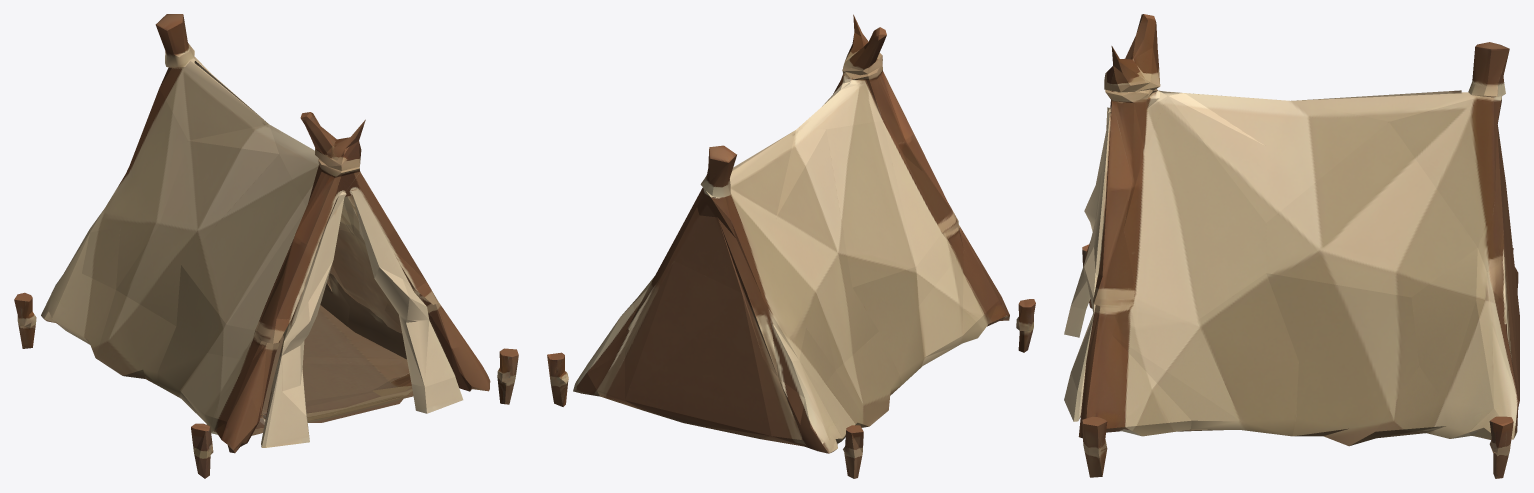
Rendered from camp-tent.glb.
The picture shows the model from 3 angles, left to right: view 1: azimuth 30°, elevation 25°; view 2: azimuth 150°, elevation 25°; view 3: azimuth 270°, elevation 25°; orthographic projection. The views are drawn at different scales.
Parts seen in each view (by area): view 1: output_unwrapped; view 2: output_unwrapped; view 3: output_unwrapped.
Boxes of the visible parts, bbox=[...] form: output_unwrapped: bbox=[14, 14, 518, 478]; output_unwrapped: bbox=[547, 14, 1035, 478]; output_unwrapped: bbox=[1064, 14, 1519, 478].
Size of the model in its own units: 1.76 by 1.64 by 1.85.
Materials: 1 (1 with a texture image).
